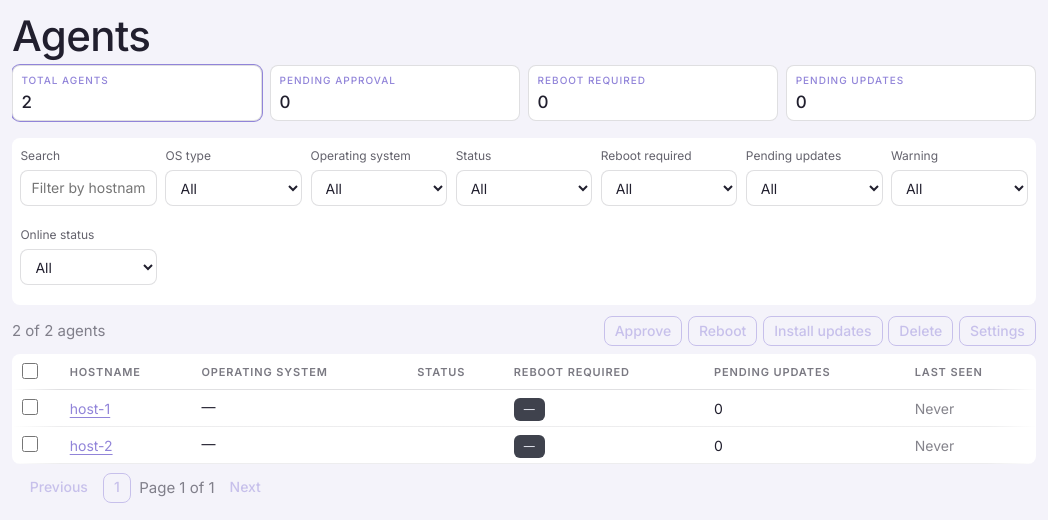
AgentsListPage › shows the selected count next to the filtered/total count, not inside the bulk action buttons
expect the link "host-1" is shown: met, box [70, 400, 110, 417]
expect the button "Approve" is shown: met, box [604, 316, 682, 346]
Click the checkbox named "select host-1" at coordinates (30, 407), box [22, 399, 38, 415]
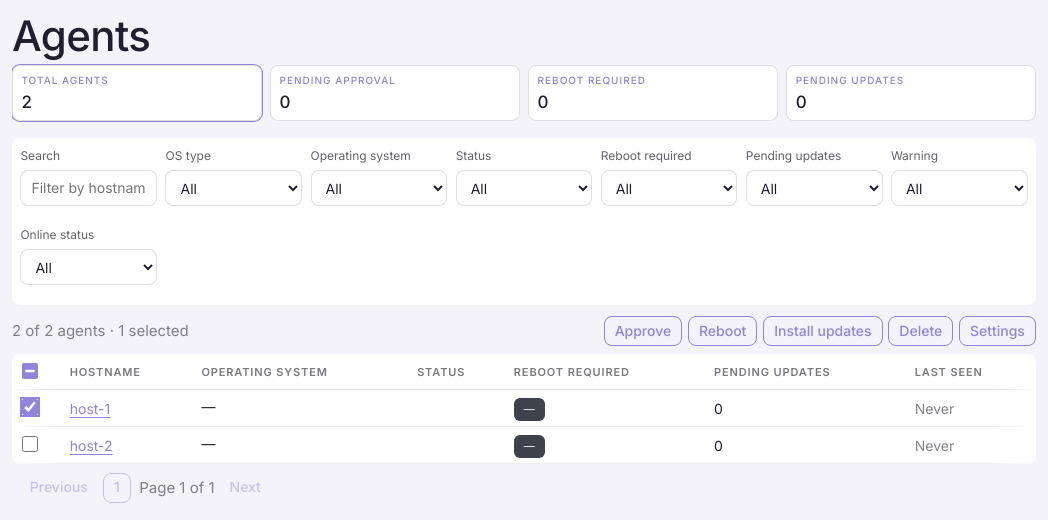
expect the text "2 of 2 agents" is shown: met, box [12, 322, 105, 340]
expect the text "1 selected" is shown: met, box [118, 322, 189, 340]
